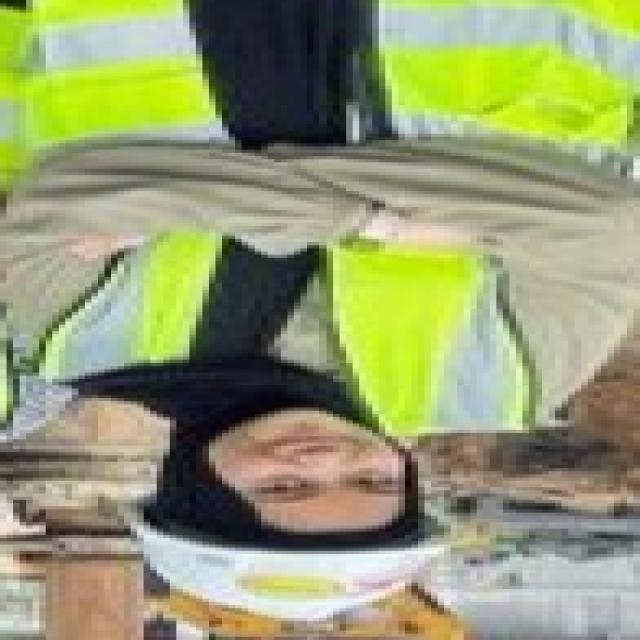safetyhelmet: (124, 436, 457, 626)
